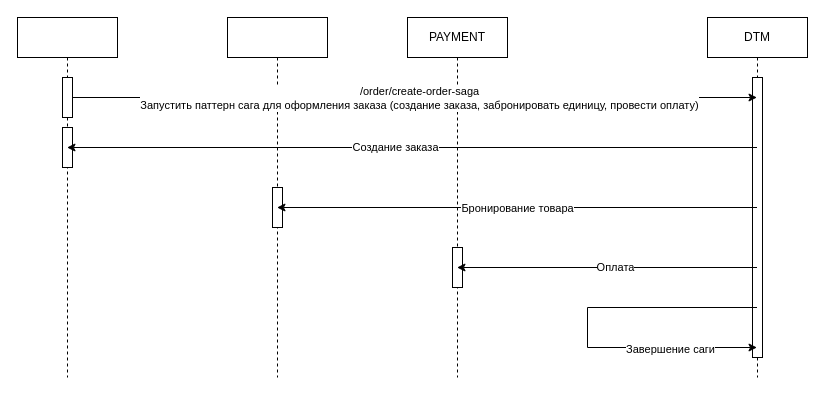
The diagram is 825 pixels wide and 395 high, and some of its shapes have lost their labels. The centre of each missing label's shape, as x and y in pixels:
"ITEM" goes at point 277,197.
"ORDER" goes at point 67,197.
